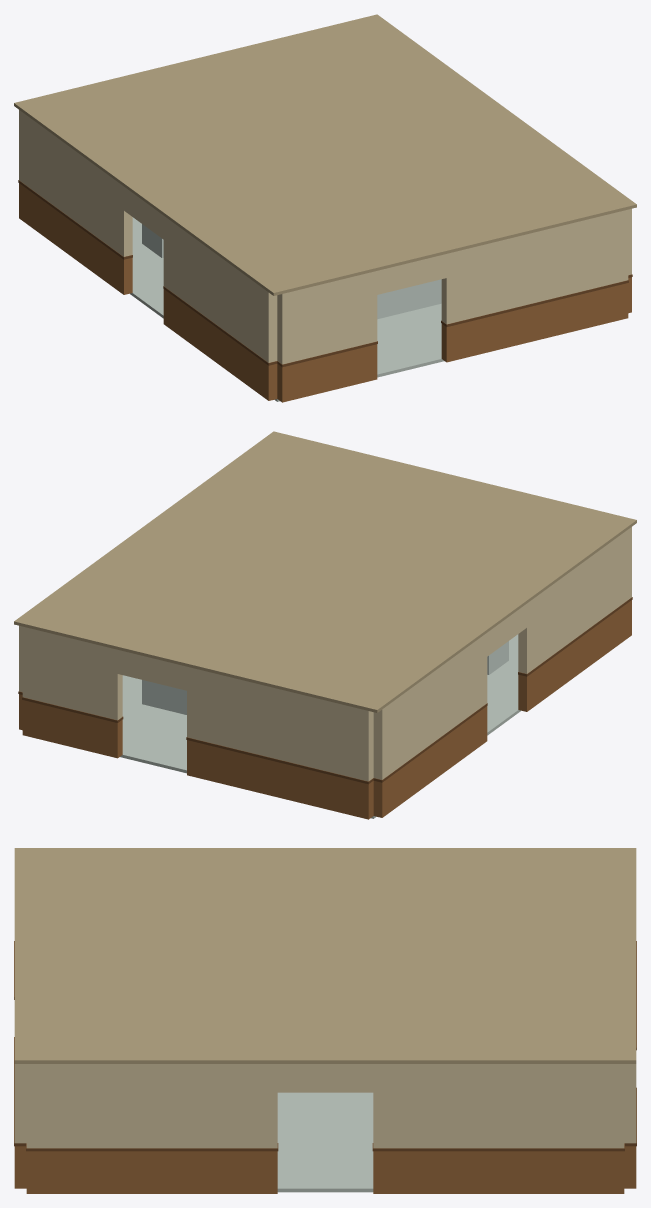
The model's file is room_botany_soil_prep.glb.
3 renders of one model, top to bottom at view 1: azimuth 30°, elevation 25°; view 2: azimuth 150°, elevation 25°; view 3: azimuth 270°, elevation 25°, orthographic. The views are drawn at different scales.
Visible parts, largest first — view 1: room_botany_soil_prep; view 2: room_botany_soil_prep; view 3: room_botany_soil_prep.
Part boxes in pixels (x1=…): room_botany_soil_prep: x1=14, y1=14, x2=636, y2=402; room_botany_soil_prep: x1=14, y1=431, x2=636, y2=819; room_botany_soil_prep: x1=14, y1=848, x2=636, y2=1193.
Bounding box in the file's own units: 12.62 × 3.8 × 15.64.
Materials: 1 (1 with a texture image).
